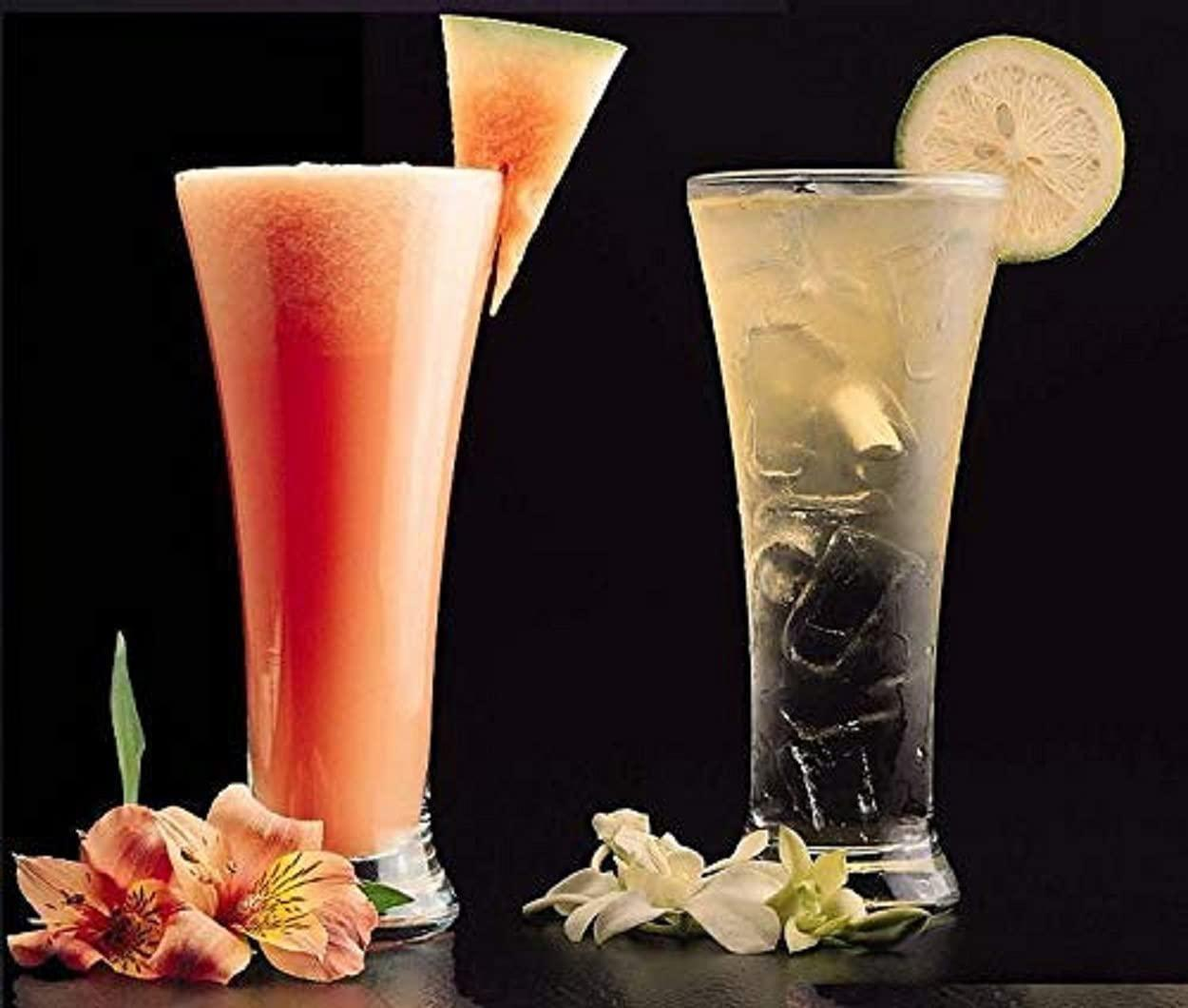glass-normal: (172, 159, 498, 948), (686, 164, 1011, 911)
